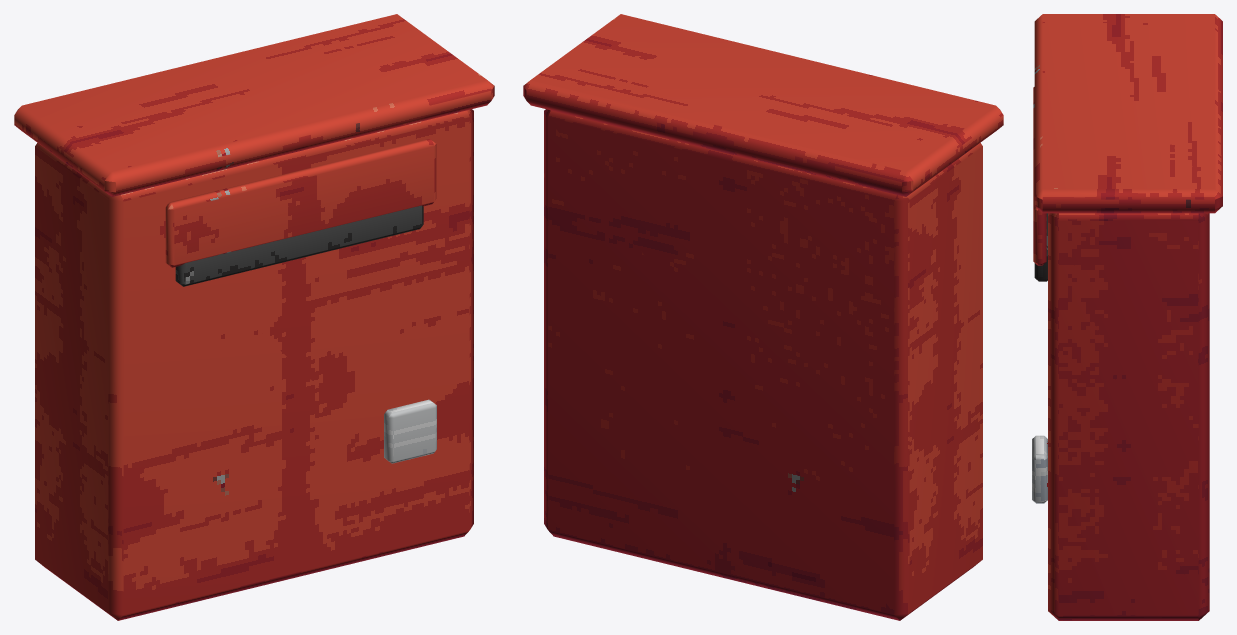
File: mailbox.glb
3 renders of one model, left to right at view 1: azimuth 30°, elevation 25°; view 2: azimuth 150°, elevation 25°; view 3: azimuth 270°, elevation 25°, orthographic. The views are drawn at different scales.
Parts seen in each view (by area): view 1: mesh; view 2: mesh; view 3: mesh.
Part boxes in pixels (bbox=[...]): mesh: bbox=[14, 14, 494, 620]; mesh: bbox=[523, 14, 1003, 620]; mesh: bbox=[1032, 14, 1222, 620].
Bounding box in the file's own units: 0.32 × 0.36 × 0.142.
1 material, 1 textured.
